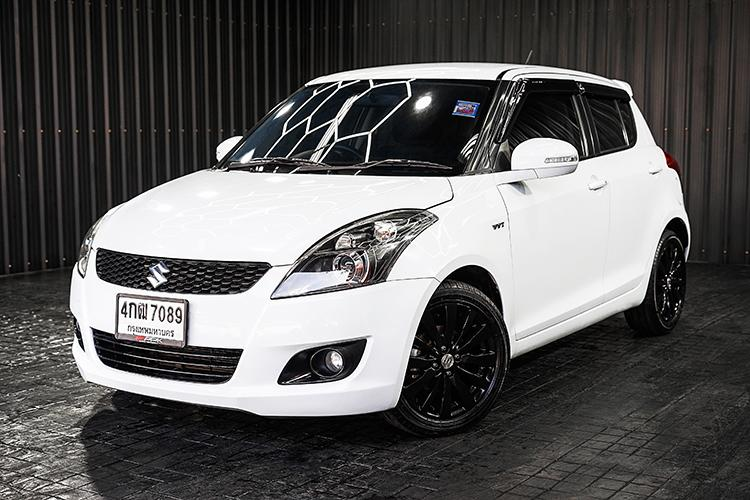license-plate: (112, 289, 191, 348)
